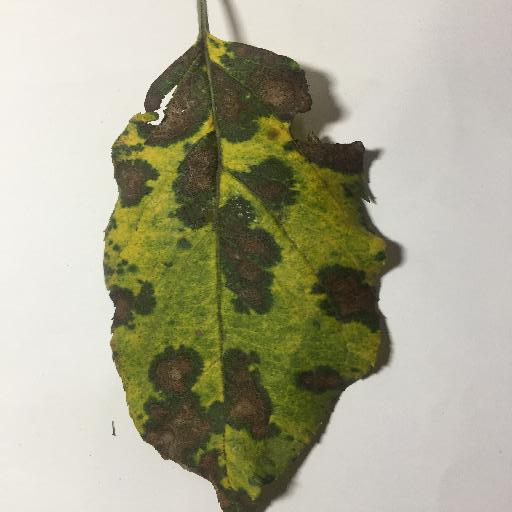Brown_Spot: (152, 51, 298, 122), (154, 347, 209, 466), (225, 210, 273, 304), (225, 357, 275, 437), (321, 270, 385, 331), (222, 466, 279, 512), (108, 160, 152, 205), (179, 146, 216, 195), (304, 139, 361, 170), (247, 166, 289, 205), (106, 291, 148, 330), (302, 371, 354, 394)
